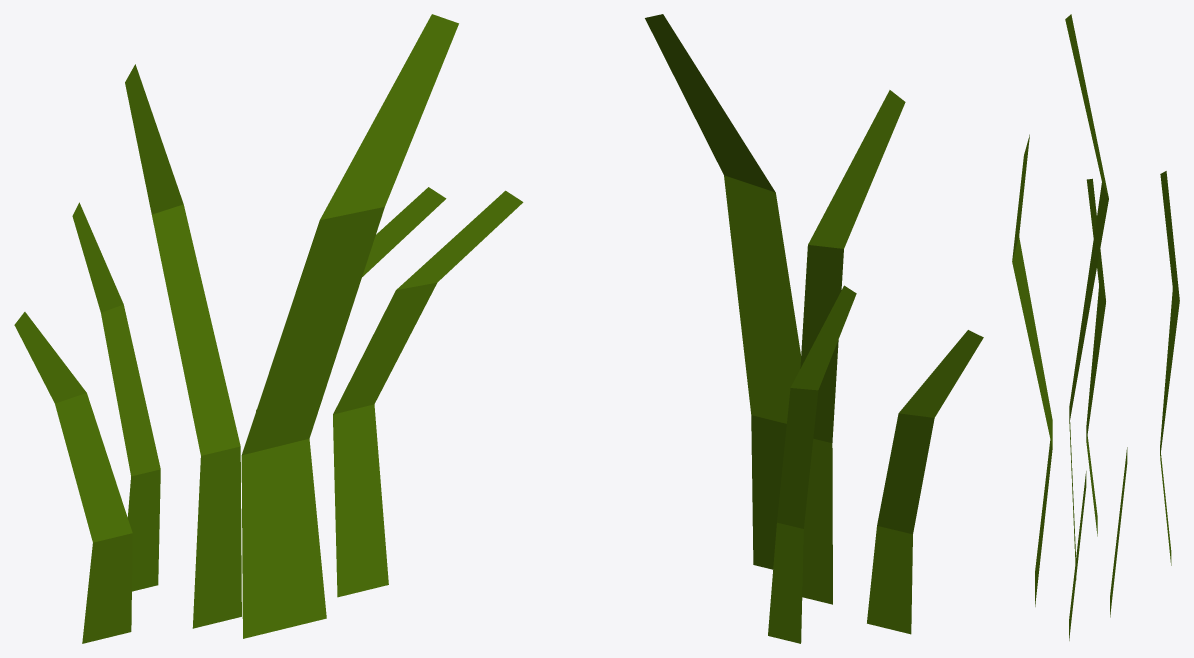
File: Grass.glb
3 renders of one model, left to right at view 1: azimuth 30°, elevation 25°; view 2: azimuth 150°, elevation 25°; view 3: azimuth 270°, elevation 25°, orthographic. The views are drawn at different scales.
Visible parts, largest first — view 1: Grass; view 2: Grass; view 3: Grass.
Part boxes in pixels (x1,y1,x2,y2): Grass: (14,14,523,643); Grass: (645,14,983,643); Grass: (1012,14,1179,640).
Size of the model in its own units: 0.245 by 0.2761 by 0.0807.
